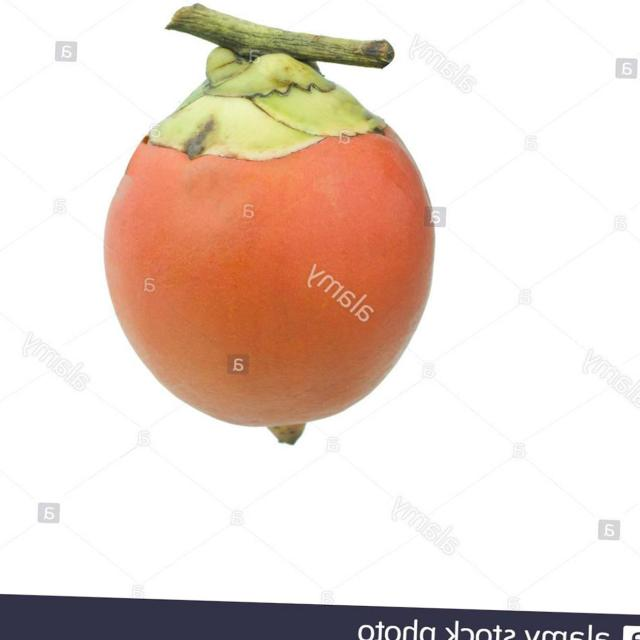good: (103, 49, 435, 433)
